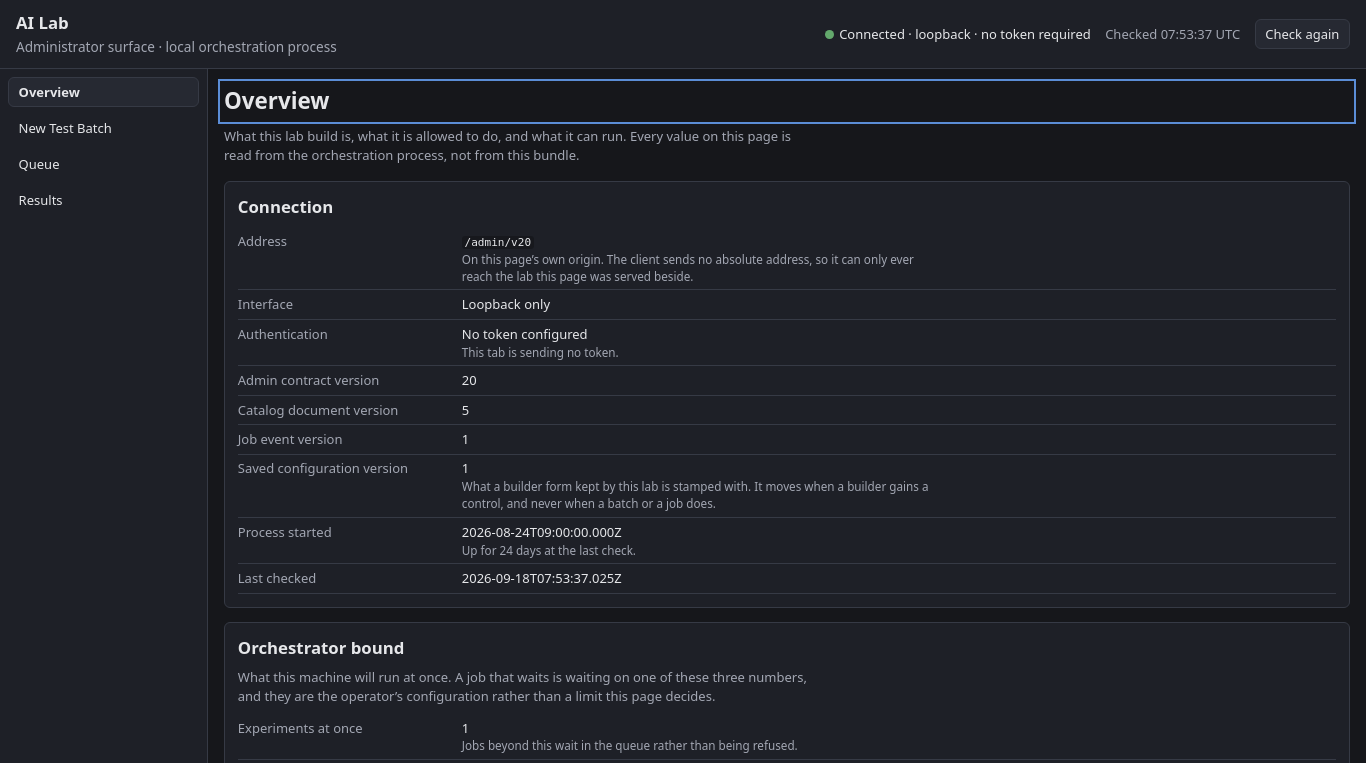
Test case: opening the Catalog run coverage tab › refuses a malformed job ID without sending a request
Expected: the heading "Overview" is shown, [224,85,330,116]
Click the button "Results" at (104, 200), box [8,185,199,216]
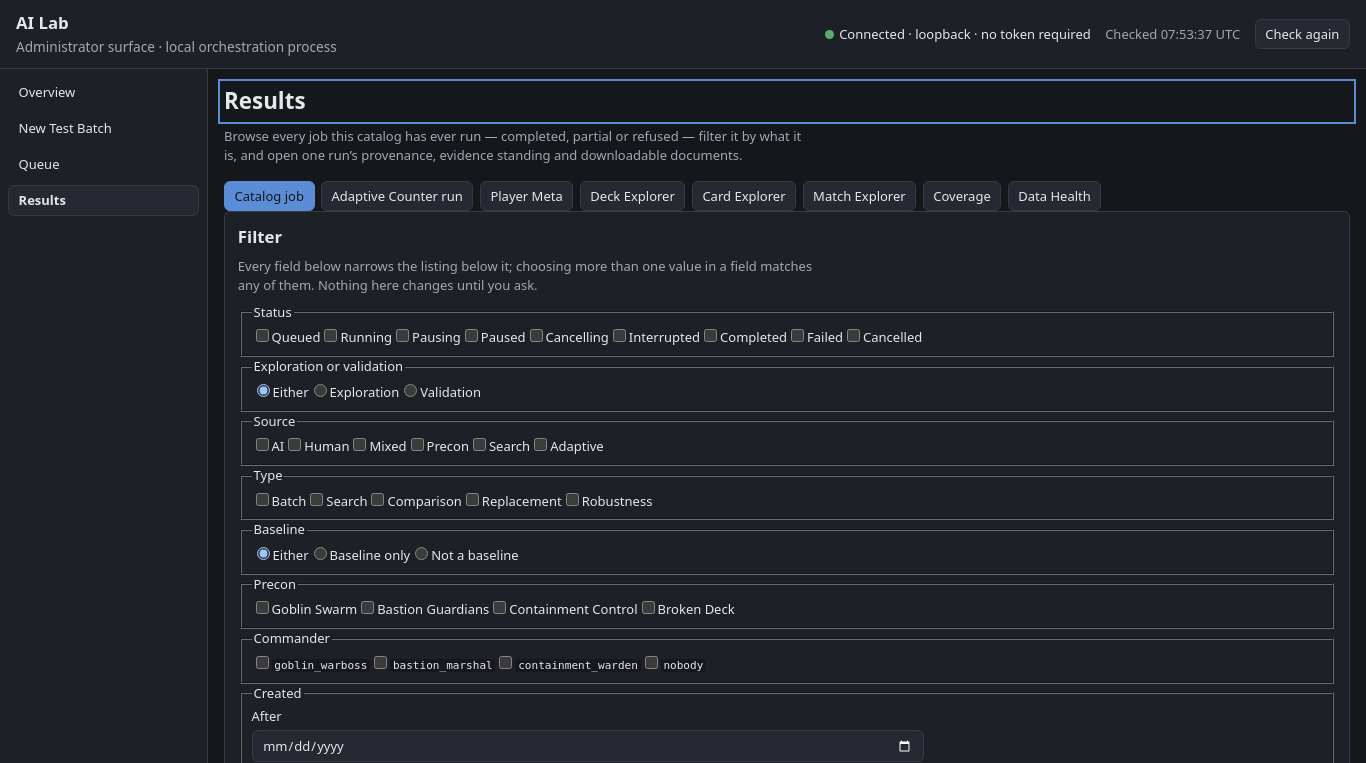
Expected: the heading "Results" is shown, [224,85,306,116]
Click the button "Coverage" at (962, 196), box [923,181,1001,211]
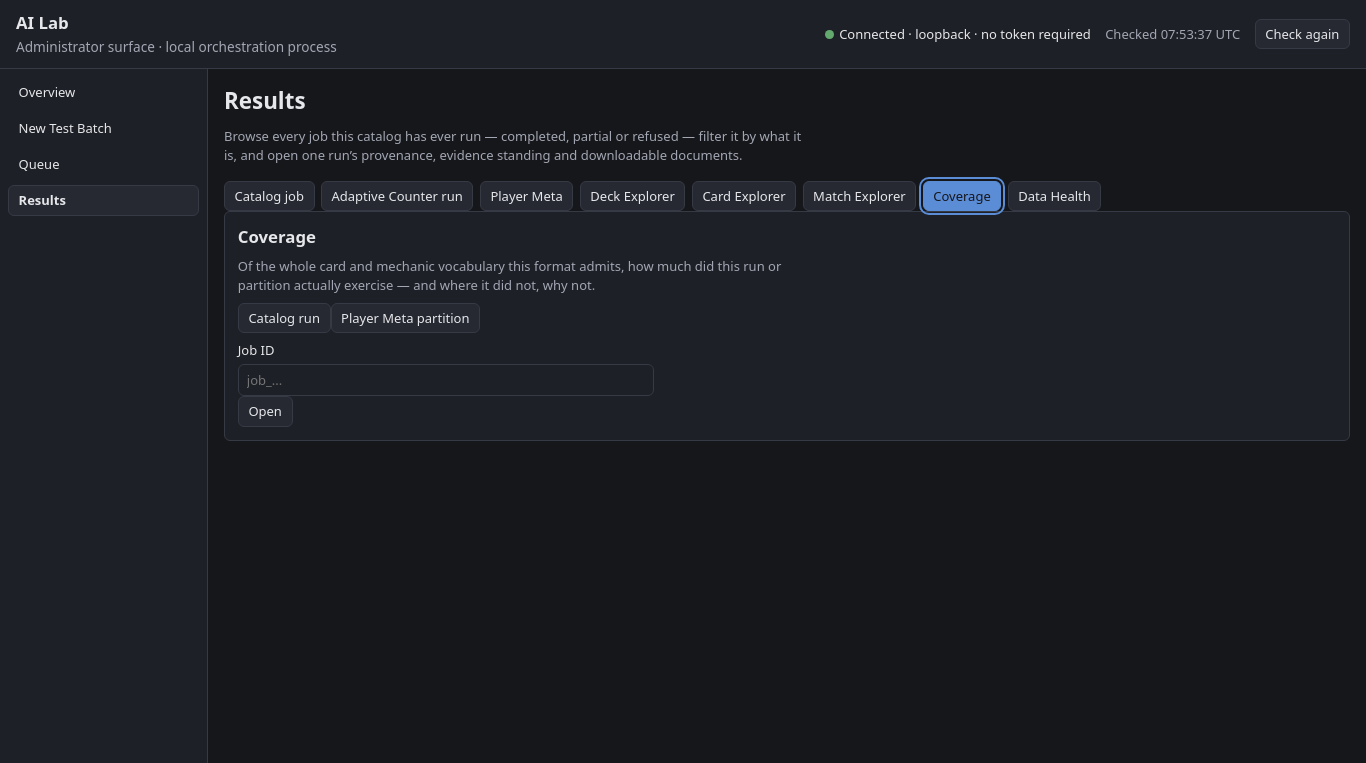
Type "not-a-job-id" into the field labelled "Job ID" at (446, 380), box [238,364,654,396]
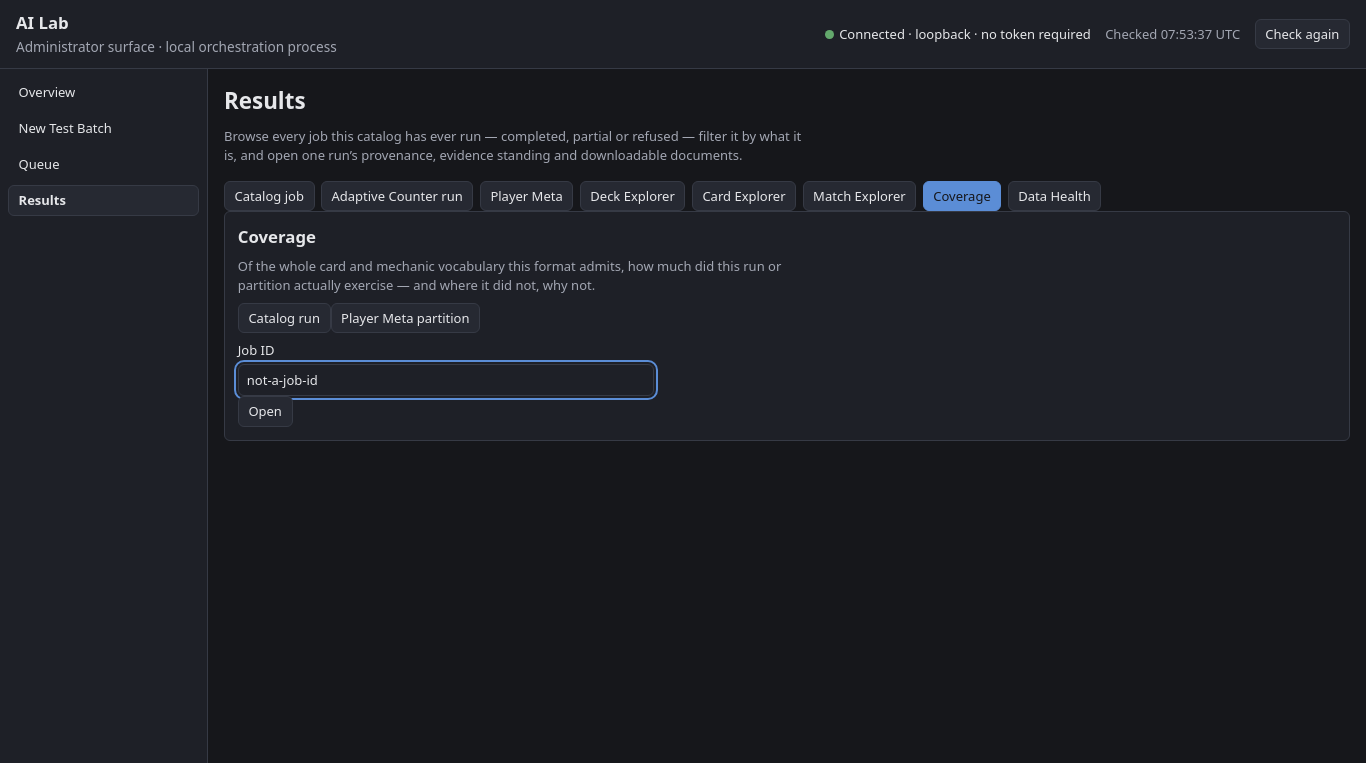
Click the button "Open" at (265, 412), box [238,396,292,427]
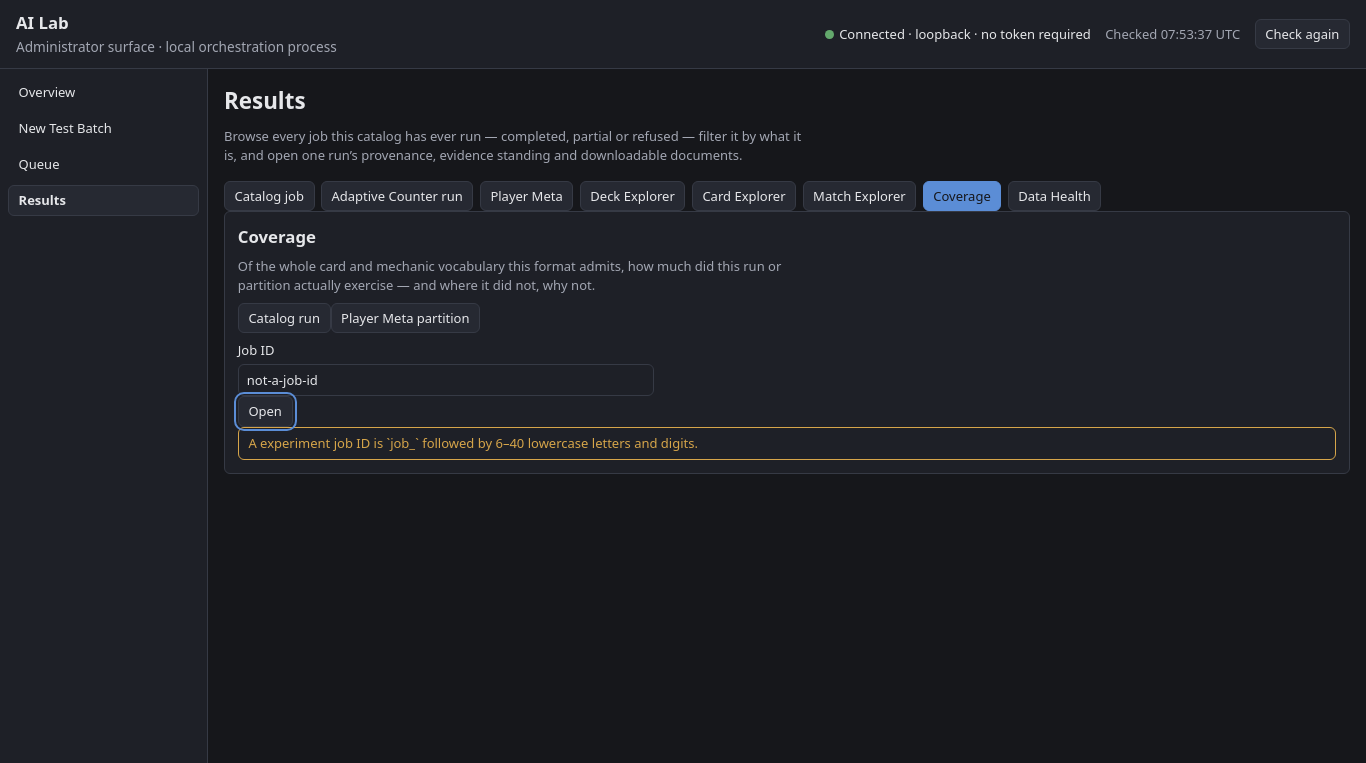
Expected: the message "A experiment job ID is `job_` followed by 6–40 lowercase letters and digits." is shown, [238,427,1336,460]
